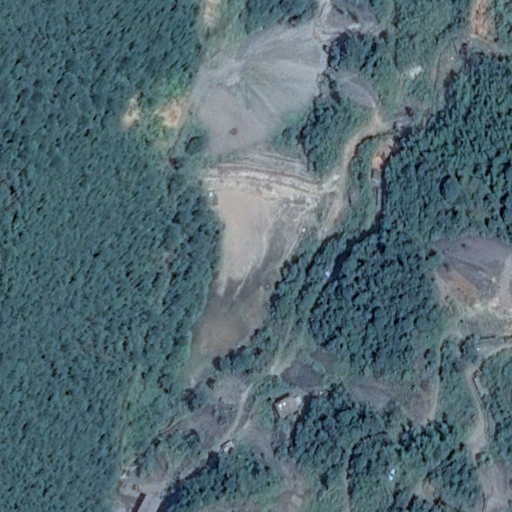tp: (176, 143, 319, 393)
